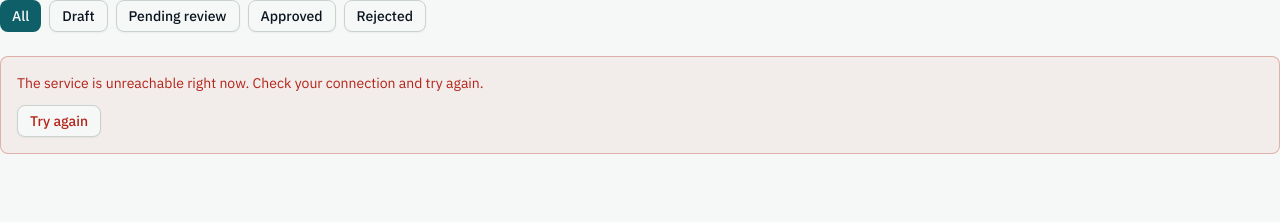
MyKnowledgeList › failure 0: accessible alert, retry refetches
Expected: the message shows "unreachable", [17, 74, 484, 92]
Click the button "Try again". click: click(59, 121)
box: [17, 105, 101, 137]
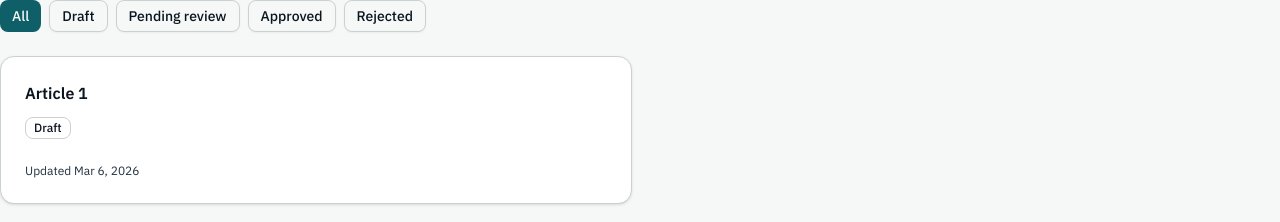
Result: the link "Article 1" is shown at [25, 83, 88, 103]
